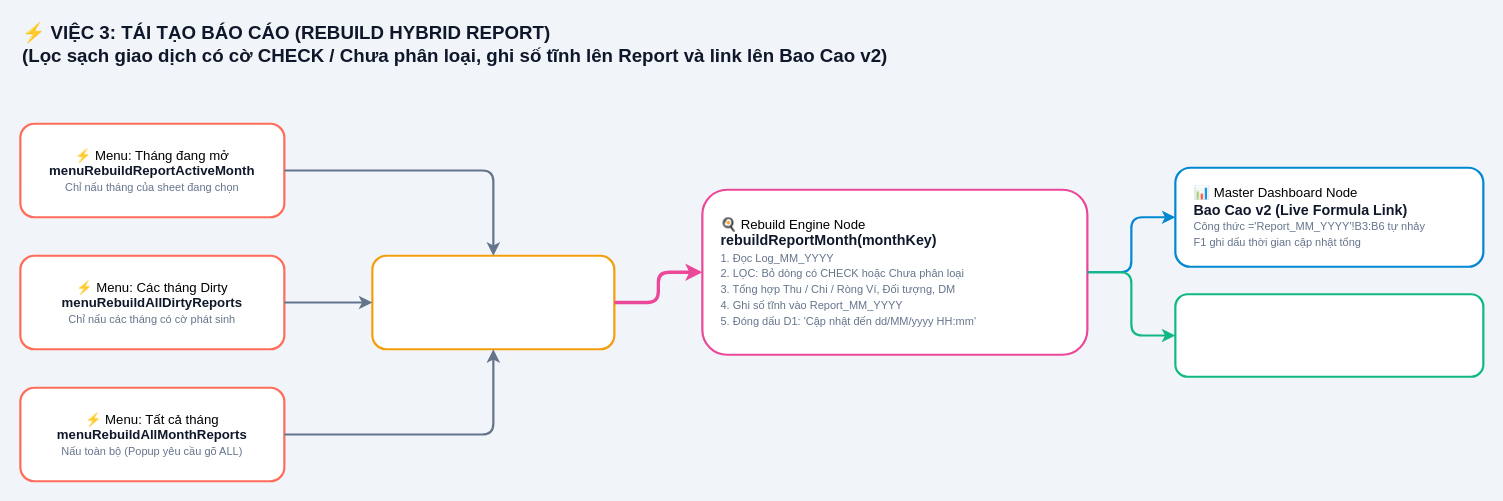
The diagram is 1503 pixels wide and 501 high, and some of its shapes have lost their labels. Each missing label, with the centre of its shape:
🔀 Month Resolver Node Xác định danh sách tháng Lấy 1 tháng HOẶC mảng [MM_YYYY]: (493,302)
🧹 Clean State Node clearMonthsDirty_() Gỡ cờ Dirty, tắt cảnh báo ⚠ tại D1: (1329,335)
